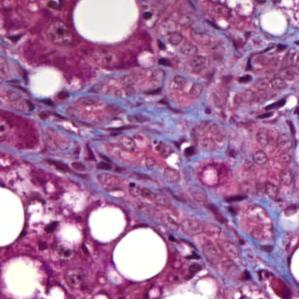steatosis: (113, 227, 167, 282), (86, 203, 124, 241)
